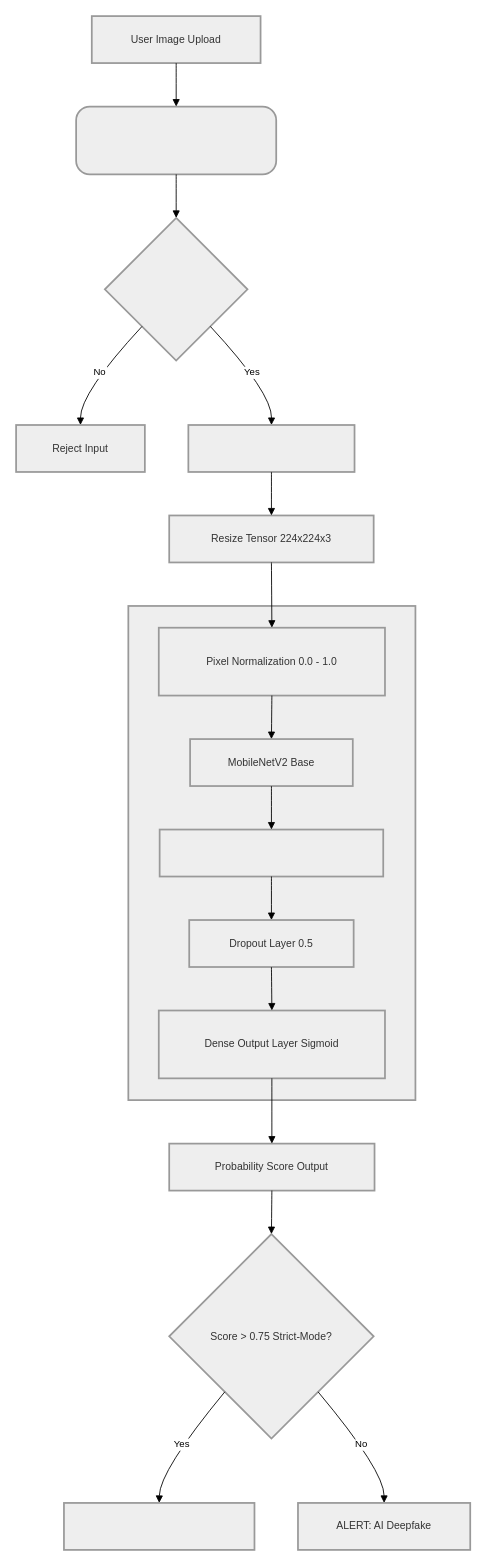
Image size: 485x1565. Some labels were removed from this diagram. The shapes that lost their labels are listed below. From the top down, each one's centre as x and y in pixels, then its label:
pixel 176 140: OpenCV Haar Cascade Face Detection
pixel 176 289: Face Detected?
pixel 271 448: Face Cropping ROI
pixel 271 852: Global Average Pooling GAP
pixel 159 1526: VERIFIED: Real Human
